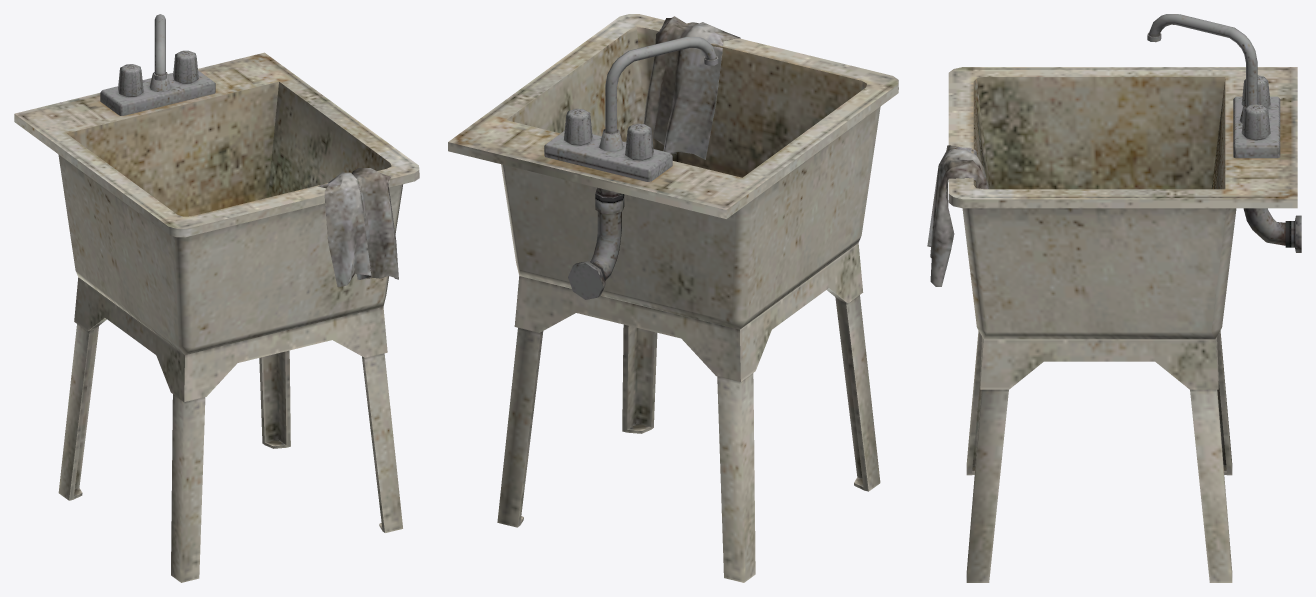
The model's file is 082_WashStand.fbx.
The picture shows the model from 3 angles, left to right: view 1: azimuth 30°, elevation 25°; view 2: azimuth 150°, elevation 25°; view 3: azimuth 270°, elevation 25°; orthographic projection. The views are drawn at different scales.
Parts seen in each view (by area): view 1: LOD_1_Group_0_Sub_1__sm30_082_WashStand01A_A_Mat; view 2: LOD_1_Group_0_Sub_1__sm30_082_WashStand01A_A_Mat; view 3: LOD_1_Group_0_Sub_1__sm30_082_WashStand01A_A_Mat.
Boxes of the visible parts, bbox=[...] form: LOD_1_Group_0_Sub_1__sm30_082_WashStand01A_A_Mat: bbox=[14, 14, 419, 582]; LOD_1_Group_0_Sub_1__sm30_082_WashStand01A_A_Mat: bbox=[448, 14, 898, 582]; LOD_1_Group_0_Sub_1__sm30_082_WashStand01A_A_Mat: bbox=[927, 14, 1301, 582].
Bounding box in the file's own units: 0.6659 × 1.15 × 0.7955.
